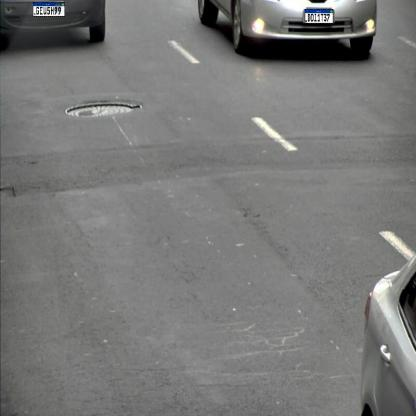PlacaM: (33, 2, 65, 17), (305, 9, 333, 24)
